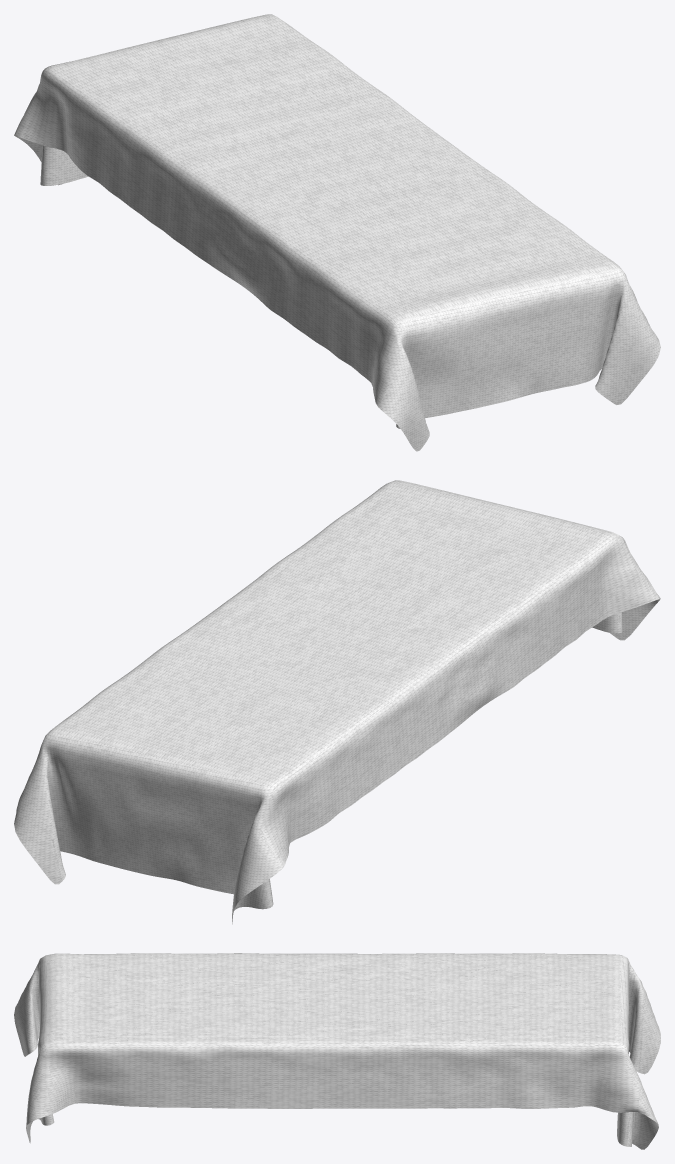
Rendered from Скатерть.fbx.
The picture shows the model from 3 angles, top to bottom: view 1: azimuth 30°, elevation 25°; view 2: azimuth 150°, elevation 25°; view 3: azimuth 270°, elevation 25°; orthographic projection. The views are drawn at different scales.
Parts seen in each view (by area): view 1: Plane; view 2: Plane; view 3: Plane.
Part boxes in pixels (box(x1,y1,x2,y2)): Plane: box(14, 14, 660, 451); Plane: box(14, 480, 660, 924); Plane: box(14, 953, 660, 1149).
Bounding box in the file's own units: 235 × 112 × 557.
Materials: 1 (1 with a texture image).
